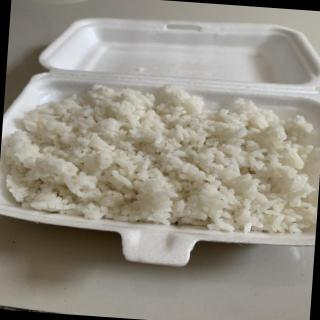Nasi: (2, 80, 320, 235)
